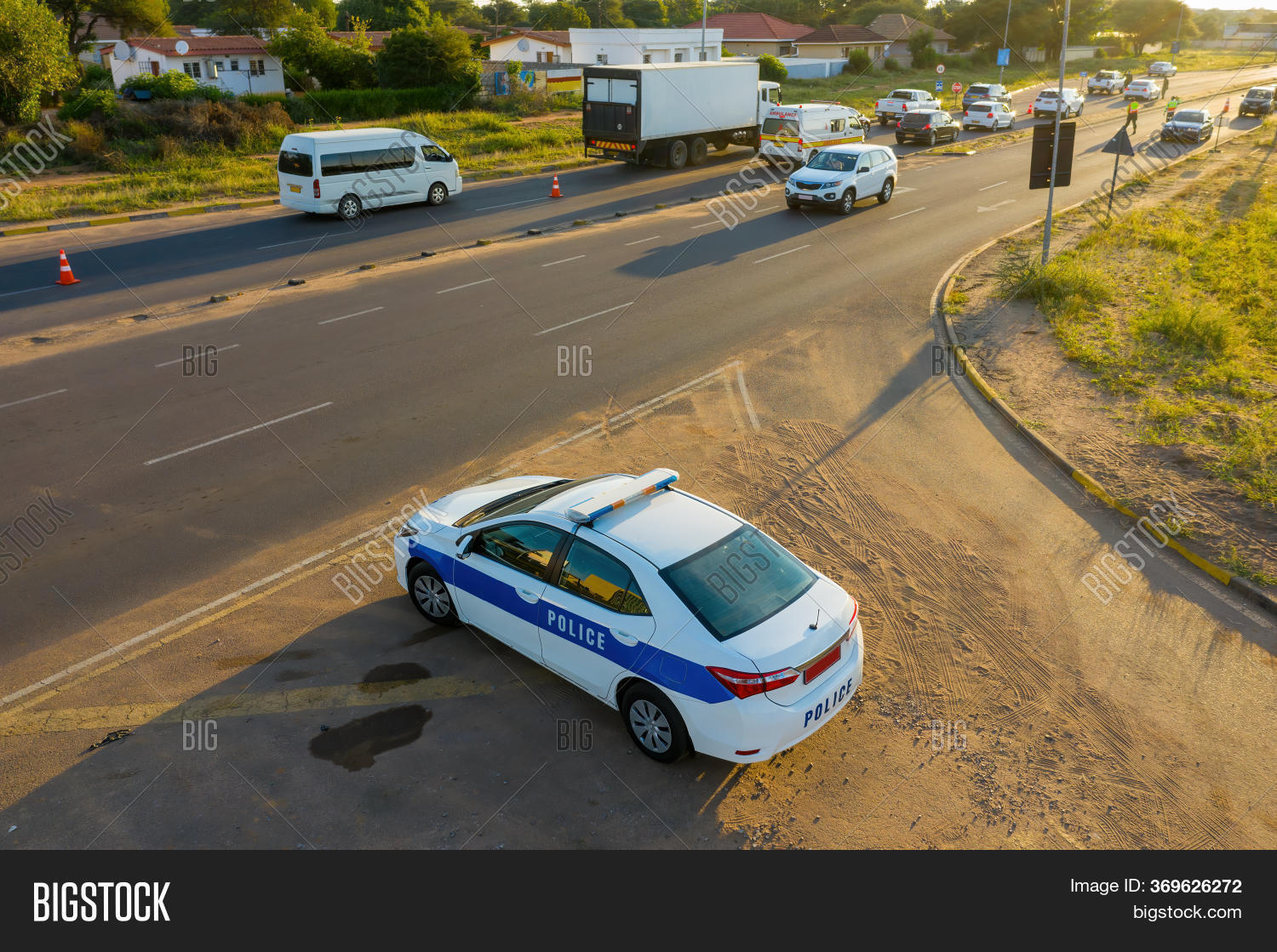Car: (375, 473, 882, 790), (264, 110, 475, 219), (761, 146, 913, 217), (1160, 100, 1209, 151), (964, 91, 1018, 137), (1030, 79, 1083, 123), (1117, 73, 1162, 106), (1085, 59, 1123, 97)
